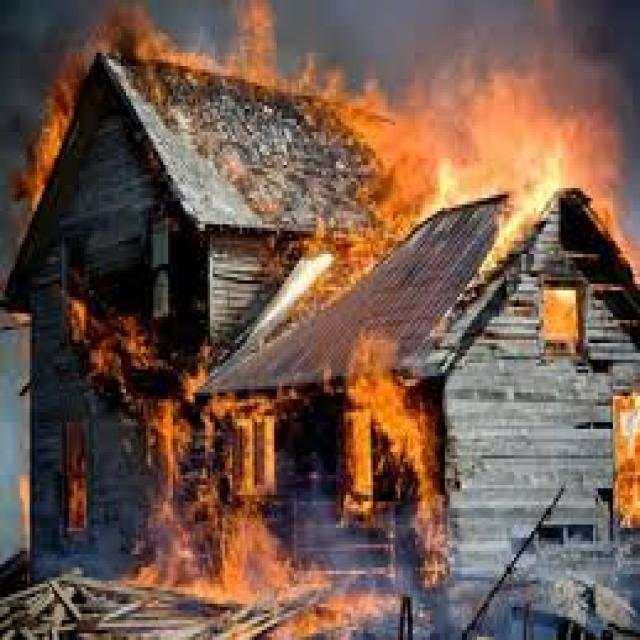Fire: (325, 72, 636, 262), (142, 371, 332, 640), (337, 338, 441, 544), (124, 1, 282, 85), (68, 294, 138, 404), (24, 66, 73, 201), (614, 391, 640, 524), (542, 288, 580, 346)
